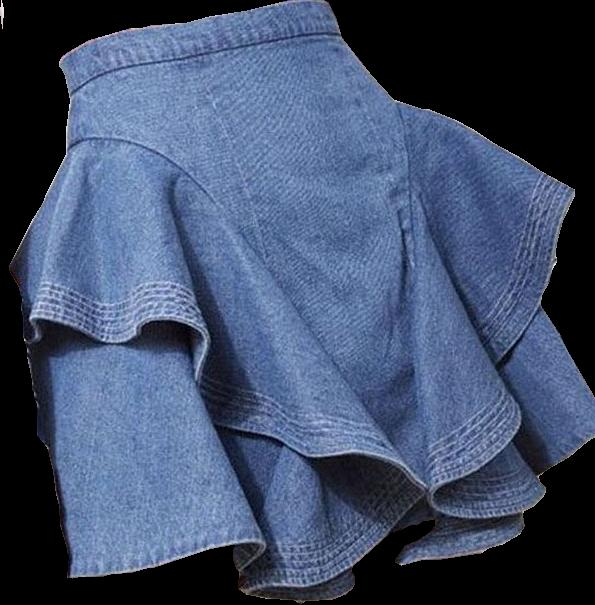Hemline: (22, 313, 416, 602), (434, 192, 594, 512)
Waistline: (64, 100, 431, 493), (68, 30, 344, 97), (57, 0, 330, 65)
